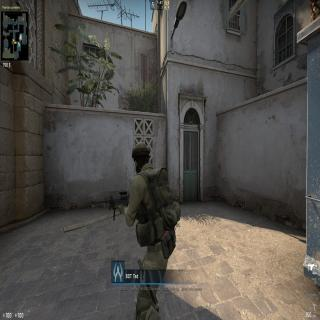CT-Head: (132, 140, 152, 172)
